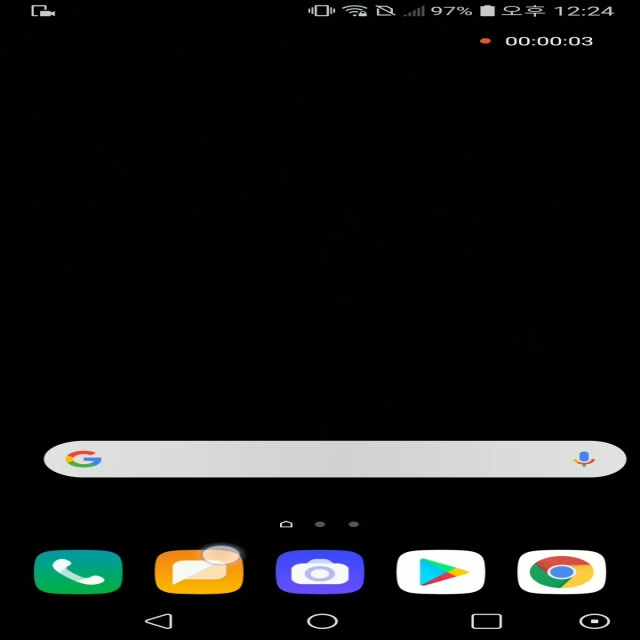Cursor: (200, 544, 244, 567)
